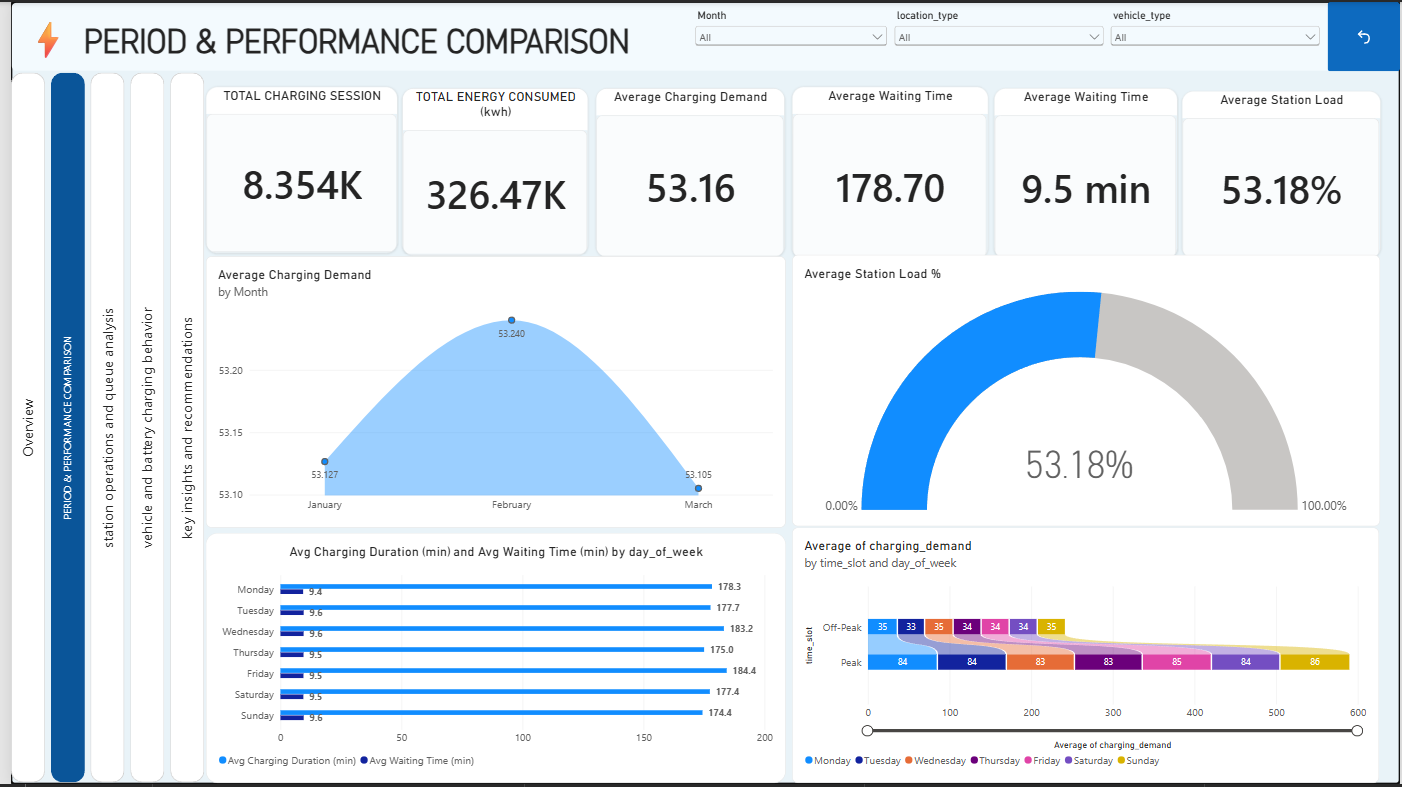

The dashboard page shown, as its layout file describes it:
{"tool":"powerbi","page":{"name":"Monthly & Period Comparison","canvas":[1920,1080],"ordinal":1},"visuals":[{"type":"cardVisual","fields":{"Data":["measure_heading.page1_title"]},"box":[0,0,1919.6,96.4],"z":0},{"type":"cardVisual","title":"TOTAL CHARGING SESSION","fields":{"Data":["measure_heading.total_charging_session"]},"box":[269,117.8,265.1,229.7],"z":1000},{"type":"cardVisual","title":"TOTAL ENERGY CONSUMED (kwh)","fields":{"Data":["measure_heading.total_energy_consumed"]},"box":[540,119.8,257.2,231.7],"z":2000},{"type":"cardVisual","title":"Average Waiting Time","fields":{"Data":["measure_heading.Average_Waiting_Time"]},"box":[1358.8,119.8,253.3,235.6],"z":3000},{"type":"cardVisual","title":"Average Station Load","fields":{"Data":["measure_heading.Average Station Load %"]},"box":[1618,123.7,274.9,231.7],"z":4000},{"type":"cardVisual","title":"Average Waiting Time","fields":{"Data":["measure_heading.average_charging_duration"]},"box":[1080,117.8,271,237.6],"z":5000},{"type":"cardVisual","title":"Average Charging Demand","fields":{"Data":["measure_heading.Average Charging Demand"]},"box":[809,119.8,261.2,233.7],"z":6000},{"type":"clusteredBarChart","fields":{"Category":["ev_charging_dataset.day_of_week"],"Y":["measure_heading.Avg Charging Duration (min)","measure_heading.Avg Waiting Time (min)"]},"box":[269,734.4,801.2,345.6],"z":7000},{"type":"barChart","fields":{"Category":["ev_charging_dataset.time_slot"],"Series":["ev_charging_dataset.day_of_week"],"Y":["Avg(ev_charging_dataset.charging_demand)"]},"box":[1080,726.5,811,353.5],"z":9000},{"type":"slicer","fields":{"Values":["DateTable.Month"]},"box":[942,8.9,274.5,78.1],"z":10000},{"type":"slicer","fields":{"Values":["ev_charging_dataset.vehicle_type"]},"box":[1515.6,8.9,299.1,87.1],"z":11000},{"type":"slicer","fields":{"Values":["ev_charging_dataset.location_type"]},"box":[1216.5,8.9,299.1,87.1],"z":12000},{"type":"actionButton","box":[1819.2,0,100.4,96],"z":13000},{"type":"pageNavigator","box":[0,98.2,269,981.8],"z":14000},{"type":"lineChart","fields":{"Category":["DateTable.Date.Variation.Date Hierarchy.Month"],"Y":["measure_heading.Average Charging Demand"]},"box":[269,351.5,801.2,375.1],"z":15000},{"type":"gauge","fields":{"Y":["measure_heading.Average Station Load %"]},"box":[1080,349.5,812.9,375.1],"z":16000}]}

Visuals, with their boxes on the page's 1920x1080 design canvas (x1, y1, x2, y2). These are canvas units, not pixel positions in the 1402x787 screenshot, which may show the page scaled, cropped or inside an application window:
cardVisual - measure_heading.page1_title: bbox=[0, 0, 1920, 96]
"TOTAL CHARGING SESSION" cardVisual: bbox=[269, 118, 534, 348]
"TOTAL ENERGY CONSUMED (kwh)" cardVisual: bbox=[540, 120, 797, 352]
"Average Waiting Time" cardVisual: bbox=[1359, 120, 1612, 355]
"Average Station Load" cardVisual: bbox=[1618, 124, 1893, 355]
"Average Waiting Time" cardVisual: bbox=[1080, 118, 1351, 355]
"Average Charging Demand" cardVisual: bbox=[809, 120, 1070, 354]
clusteredBarChart - ev_charging_dataset.day_of_week x measure_heading.Avg Charging Duration (min): bbox=[269, 734, 1070, 1080]
barChart - ev_charging_dataset.time_slot x ev_charging_dataset.day_of_week: bbox=[1080, 726, 1891, 1080]
slicer - DateTable.Month: bbox=[942, 9, 1216, 87]
slicer - ev_charging_dataset.vehicle_type: bbox=[1516, 9, 1815, 96]
slicer - ev_charging_dataset.location_type: bbox=[1216, 9, 1516, 96]
actionButton: bbox=[1819, 0, 1920, 96]
pageNavigator: bbox=[0, 98, 269, 1080]
lineChart - DateTable.Date.Variation.Date Hierarchy.Month x measure_heading.Average Charging Demand: bbox=[269, 352, 1070, 727]
gauge - measure_heading.Average Station Load %: bbox=[1080, 350, 1893, 725]
